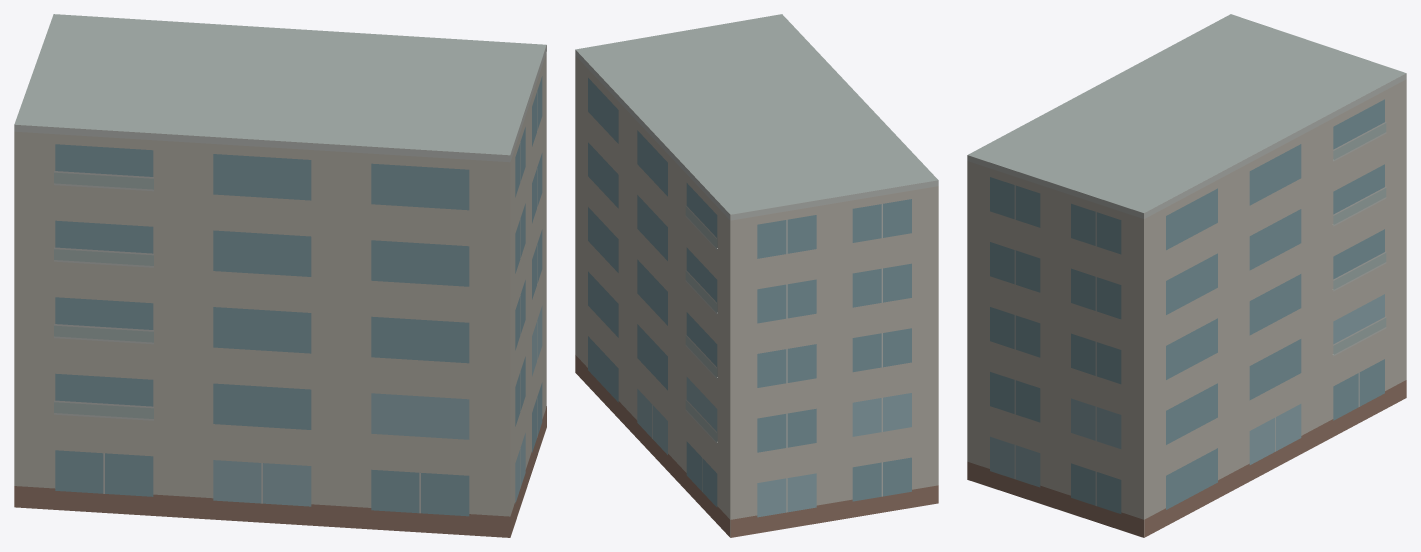
Rendered from survey-upis-32844561.glb.
3 views of the same model, side by side, from view 1: azimuth 30°, elevation 25°; view 2: azimuth 150°, elevation 25°; view 3: azimuth 270°, elevation 25° (orthographic). The views are drawn at different scales.
Visible parts, largest first — view 1: survey-upis-32844561.tmp; view 2: survey-upis-32844561.tmp; view 3: survey-upis-32844561.tmp.
Part boxes in pixels (x1,y1,x2,y2): survey-upis-32844561.tmp: [14, 14, 546, 537]; survey-upis-32844561.tmp: [575, 14, 938, 537]; survey-upis-32844561.tmp: [967, 14, 1406, 537].
Size of the model in its own units: 17.65 by 13.4 by 16.44.
